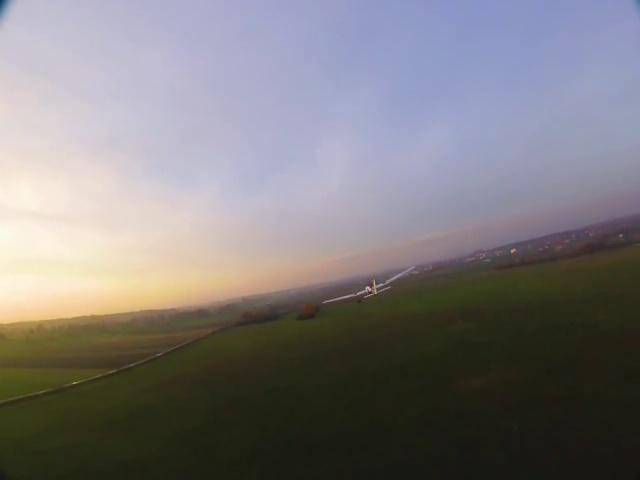Airplane: (315, 260, 420, 308)
